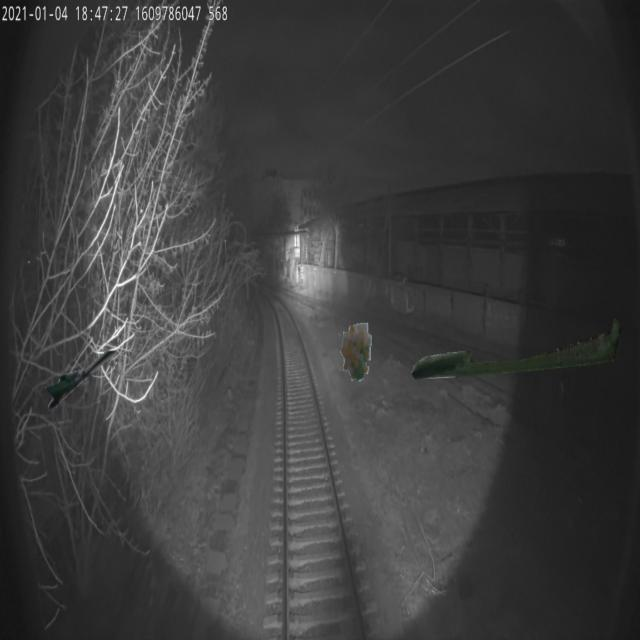balloon: (340, 318, 372, 382)
floating object: (410, 316, 629, 380), (44, 346, 120, 411)
